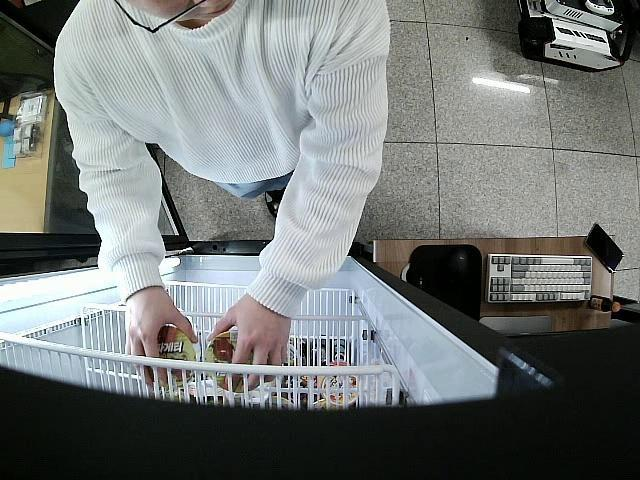04_chapagetti_S: (142, 326, 196, 388), (204, 330, 253, 394)
